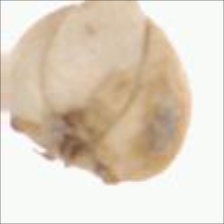L5: (38, 1, 151, 132), (9, 113, 124, 185)
L6: (2, 1, 195, 186)
